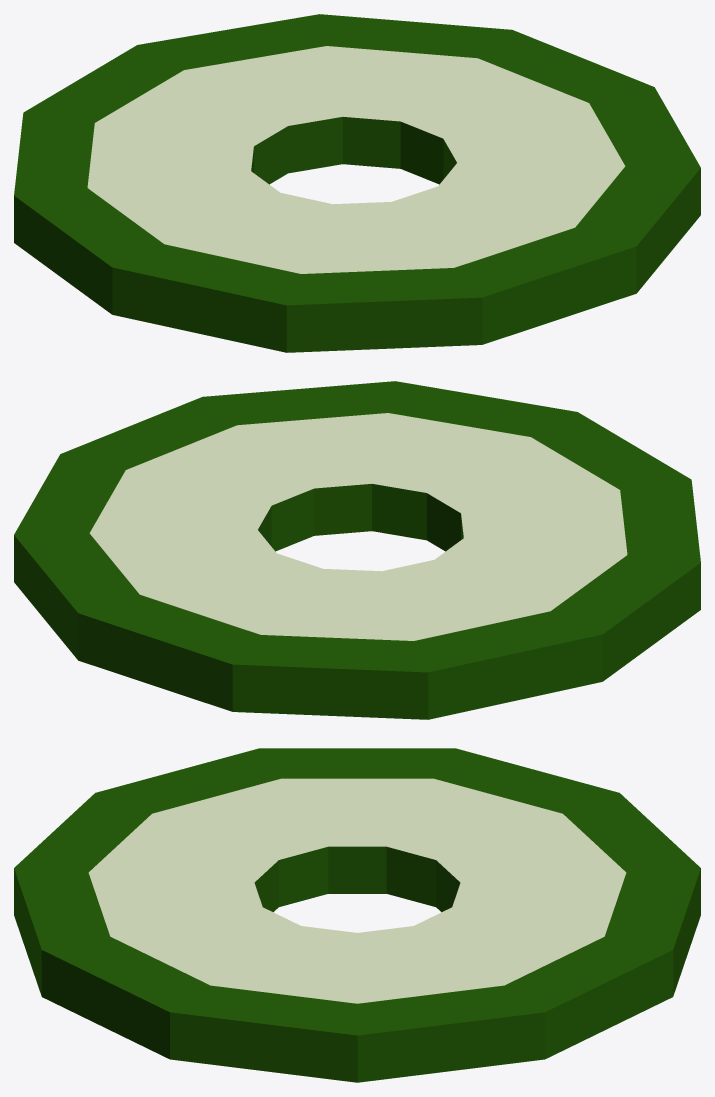
File: JalapenoSlice.fbx
3 renders of one model, top to bottom at view 1: azimuth 30°, elevation 25°; view 2: azimuth 150°, elevation 25°; view 3: azimuth 270°, elevation 25°, orthographic.
Parts seen in each view (by area): view 1: JalapenoSlice; view 2: JalapenoSlice; view 3: JalapenoSlice.
Part boxes in pixels (<box>): JalapenoSlice: <box>14,14,700,352</box>; JalapenoSlice: <box>14,381,700,719</box>; JalapenoSlice: <box>14,748,700,1082</box>.
Size of the model in its own units: 4.65 by 0.3562 by 4.7.
